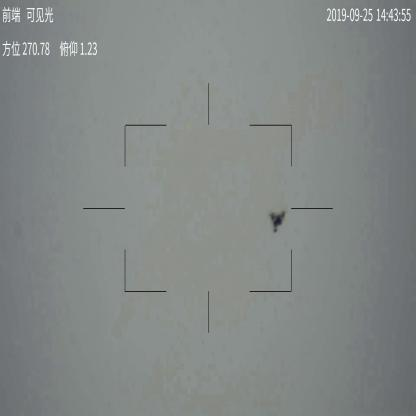uav: (266, 208, 287, 231)
